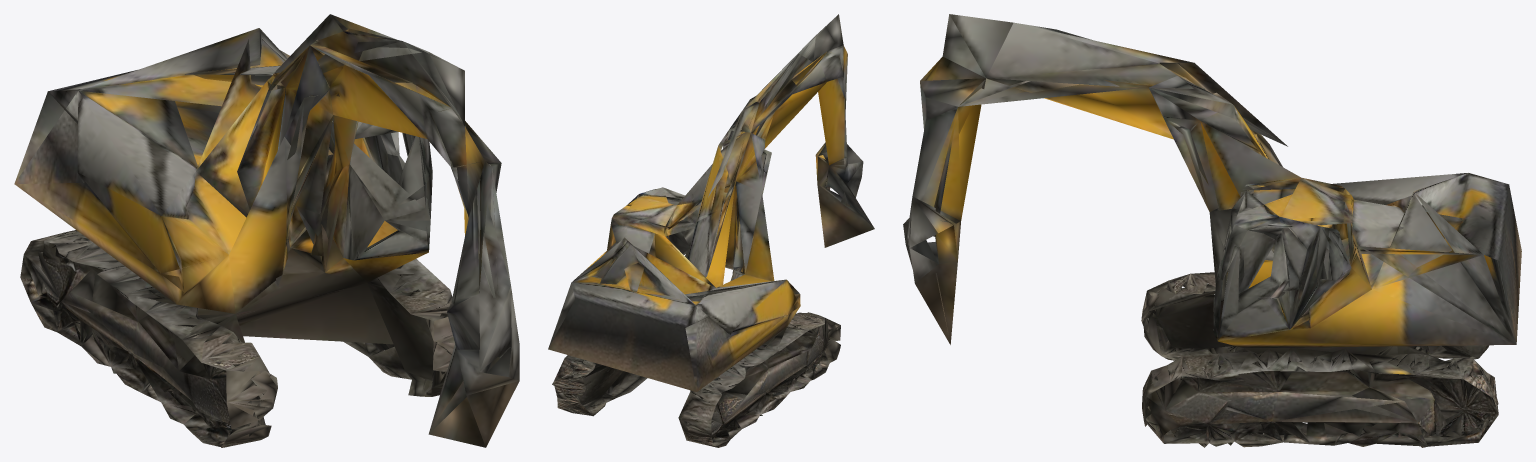
The model's file is teluk-excavator.glb.
3 renders of one model, left to right at view 1: azimuth 30°, elevation 25°; view 2: azimuth 150°, elevation 25°; view 3: azimuth 270°, elevation 25°, orthographic. The views are drawn at different scales.
Parts seen in each view (by area): view 1: teluk-excavator; view 2: teluk-excavator; view 3: teluk-excavator.
Boxes of the visible parts, bbox=[...] form: teluk-excavator: bbox=[14, 14, 519, 447]; teluk-excavator: bbox=[548, 14, 874, 447]; teluk-excavator: bbox=[903, 14, 1521, 447].
Size of the model in its own units: 3.76 by 6.07 by 9.
1 material, 1 textured.
